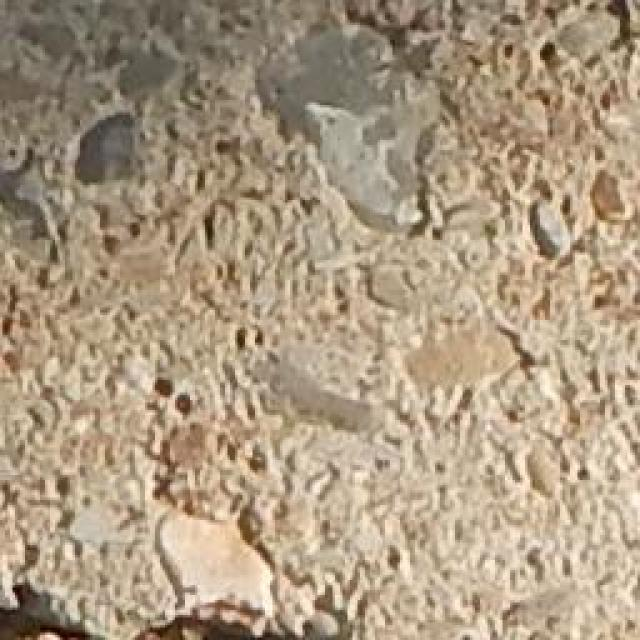concrete-crack: (0, 570, 306, 640)
